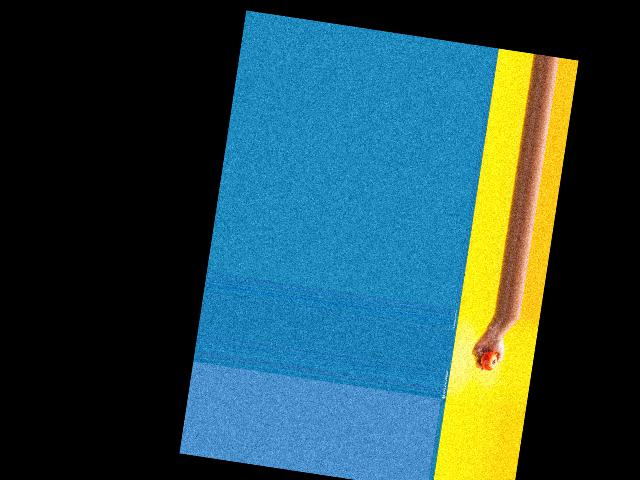tomato: (479, 349, 497, 371)
